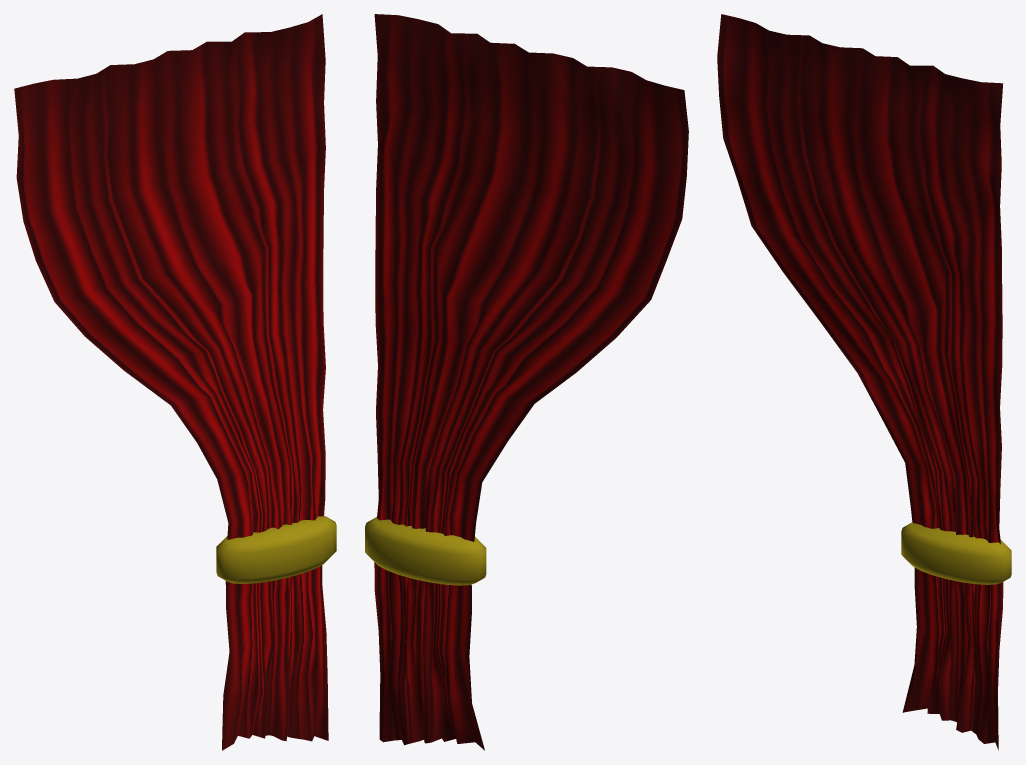
File: curtain.glb
3 views of the same model, side by side, from view 1: azimuth 30°, elevation 25°; view 2: azimuth 150°, elevation 25°; view 3: azimuth 330°, elevation 25° (orthographic). The views are drawn at different scales.
Parts seen in each view (by area): view 1: Plane, Cylinder; view 2: Plane, Cylinder; view 3: Plane, Cylinder.
Boxes of the visible parts, x1=… form: Plane: x1=14, y1=14, x2=328, y2=750; Cylinder: x1=216, y1=516, x2=336, y2=583; Plane: x1=374, y1=14, x2=688, y2=750; Cylinder: x1=365, y1=517, x2=486, y2=585; Plane: x1=717, y1=14, x2=1003, y2=750; Cylinder: x1=901, y1=522, x2=1011, y2=584.
Size of the model in its own units: 1.9 by 4.12 by 0.2782.
2 materials, 1 textured.
